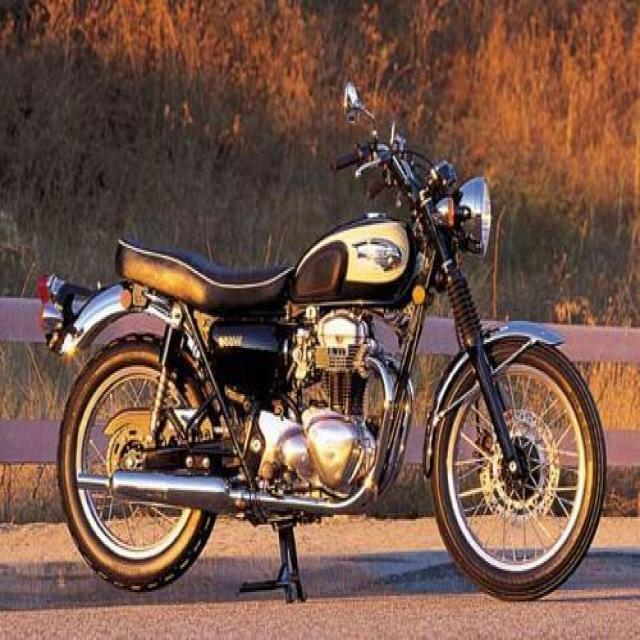Motorcycle: (52, 141, 614, 606)
